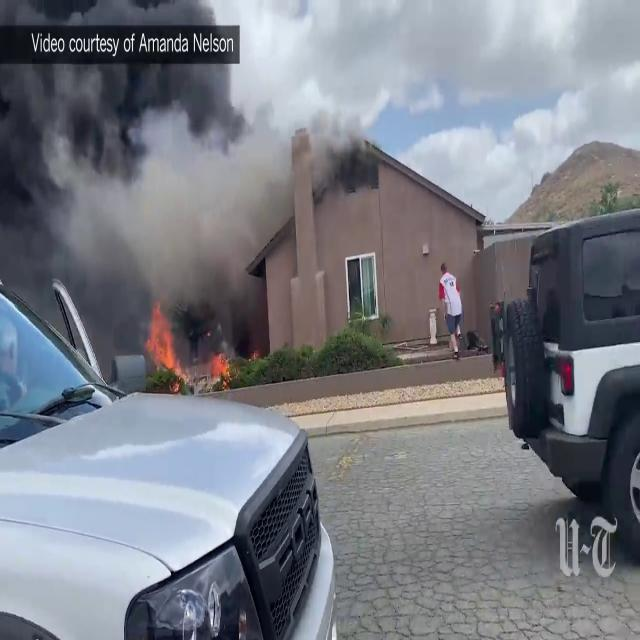Fire: (142, 300, 188, 390), (204, 347, 237, 392)
Smoke: (7, 0, 282, 352), (266, 89, 382, 203)
